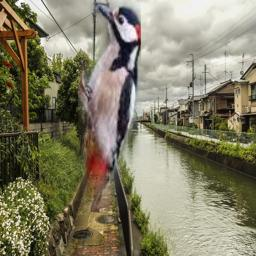Woodpecker: (78, 0, 141, 255)
